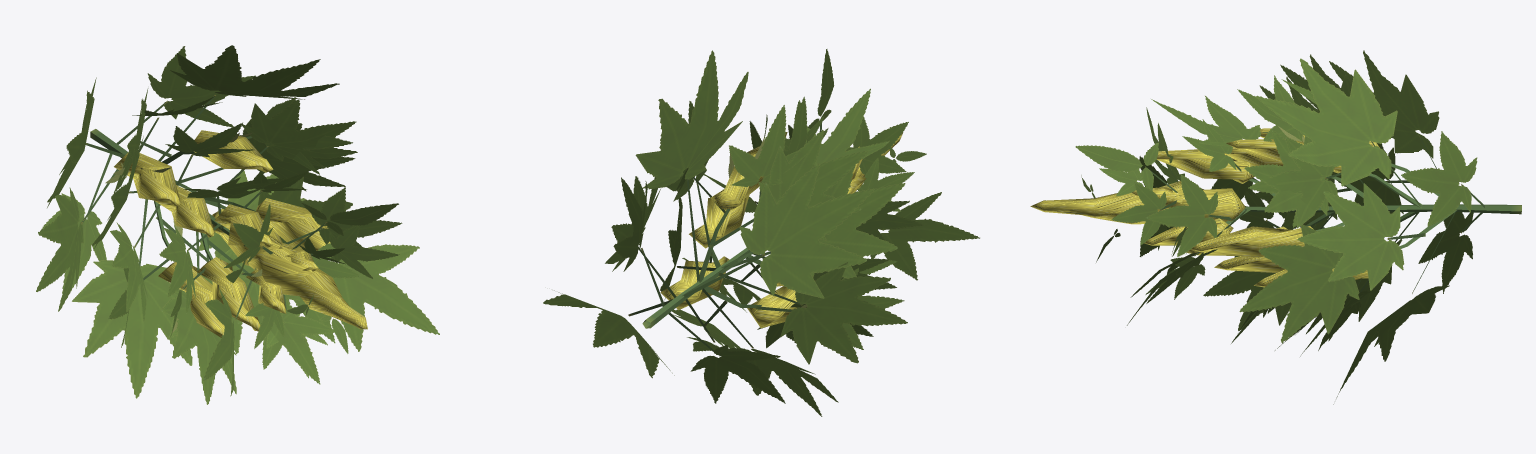
The model's file is p_gold_tree_flowering_c0_cards.obj.
The picture shows the model from 3 angles, left to right: view 1: azimuth 30°, elevation 25°; view 2: azimuth 150°, elevation 25°; view 3: azimuth 270°, elevation 25°; orthographic projection. The views are drawn at different scales.
Bounding box in the file's own units: 1.34 × 1.26 × 1.48.
Materials: 1 (1 with a texture image).
